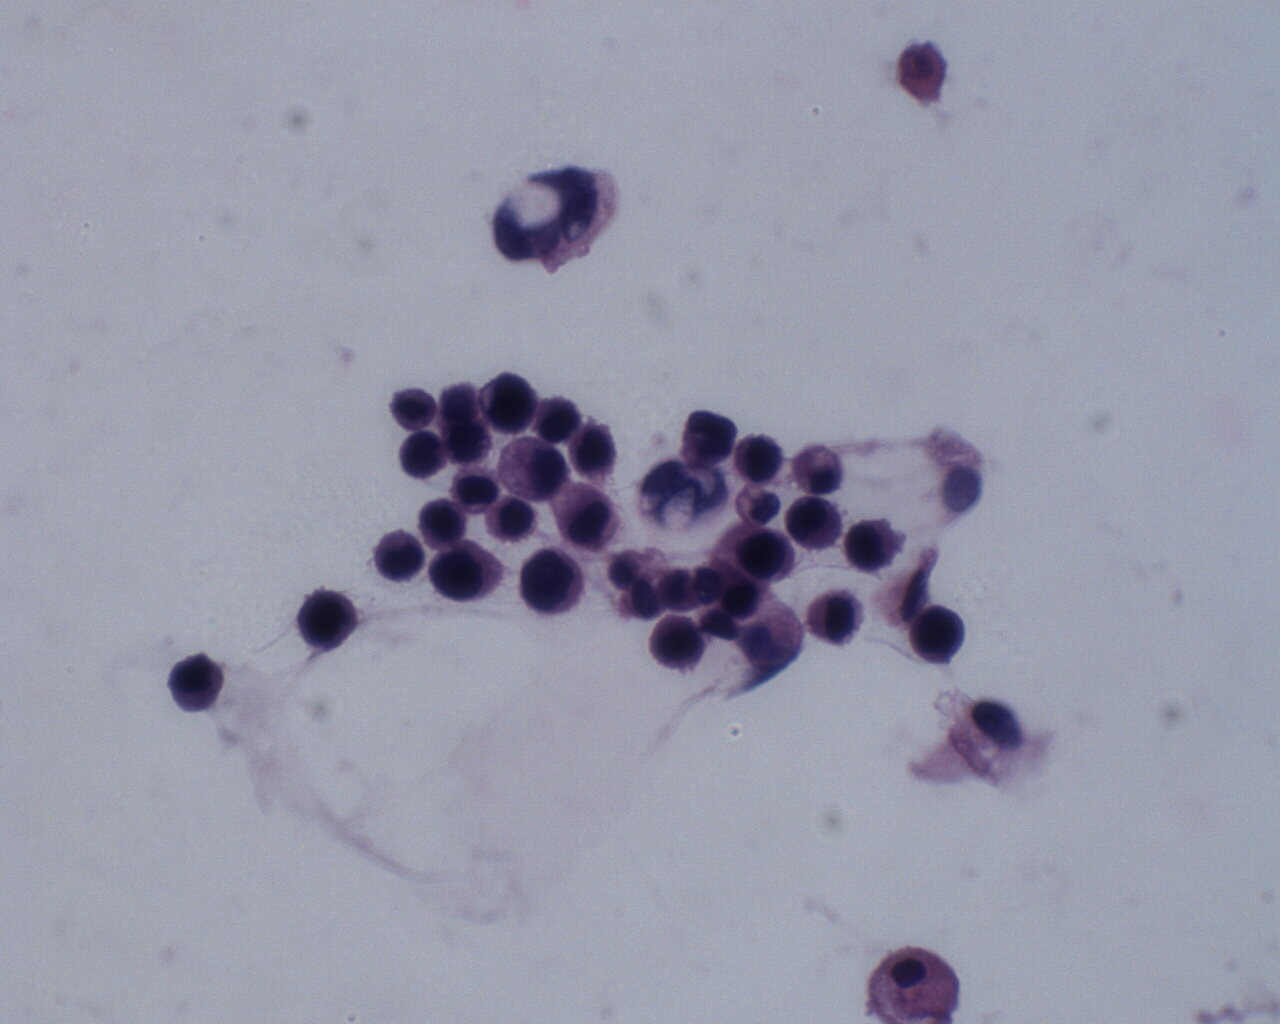ab: (430, 539, 506, 607), (519, 548, 586, 622), (721, 521, 796, 584), (295, 587, 363, 652), (478, 368, 538, 436), (166, 647, 226, 713), (844, 510, 904, 573), (567, 421, 627, 484), (909, 603, 967, 667), (647, 613, 706, 674), (804, 587, 865, 646), (785, 493, 843, 552), (370, 528, 427, 586), (485, 494, 541, 546), (417, 497, 473, 548), (734, 430, 784, 485), (400, 429, 449, 480)
histo: (859, 939, 963, 1024)
